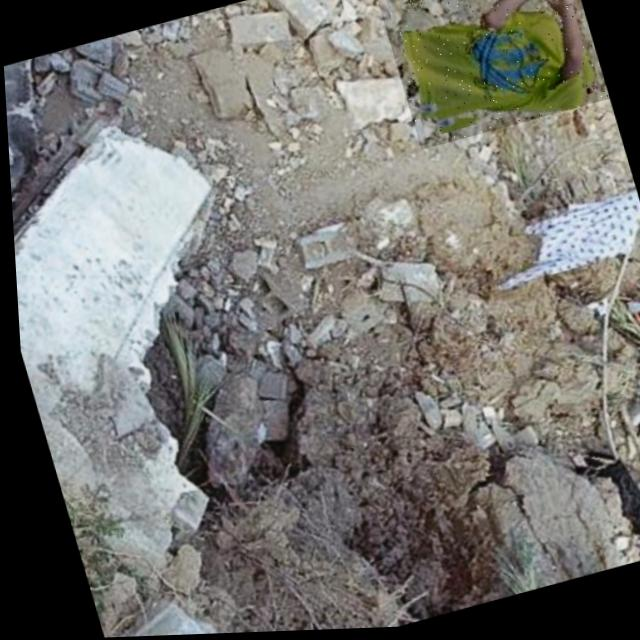Person in Rubble: (373, 0, 610, 153)
